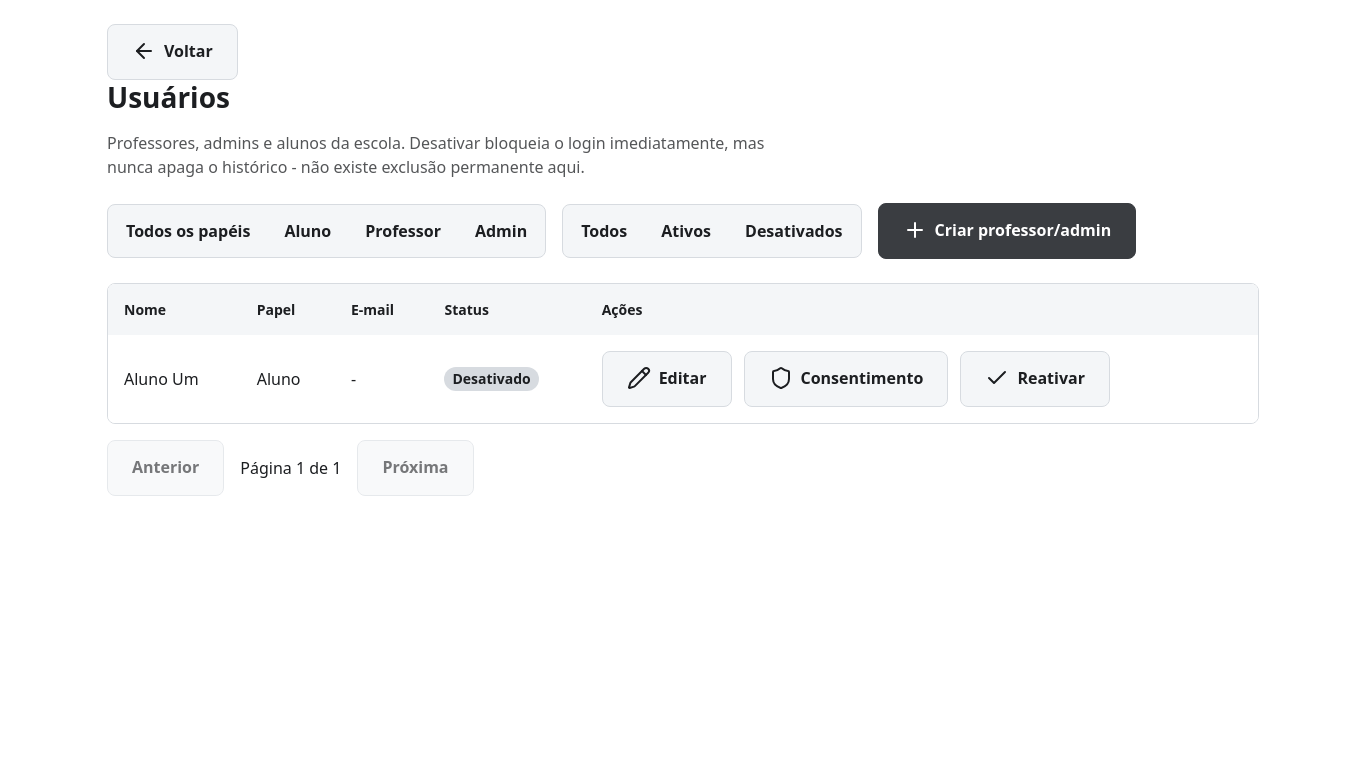
it: AdminUsers › AC4 - shows when and by whom the consent was recorded
Expected: the text "Aluno Um" is shown, [108,335,241,423]
Click the button "Consentimento": [846, 379] box [744,351,948,407]
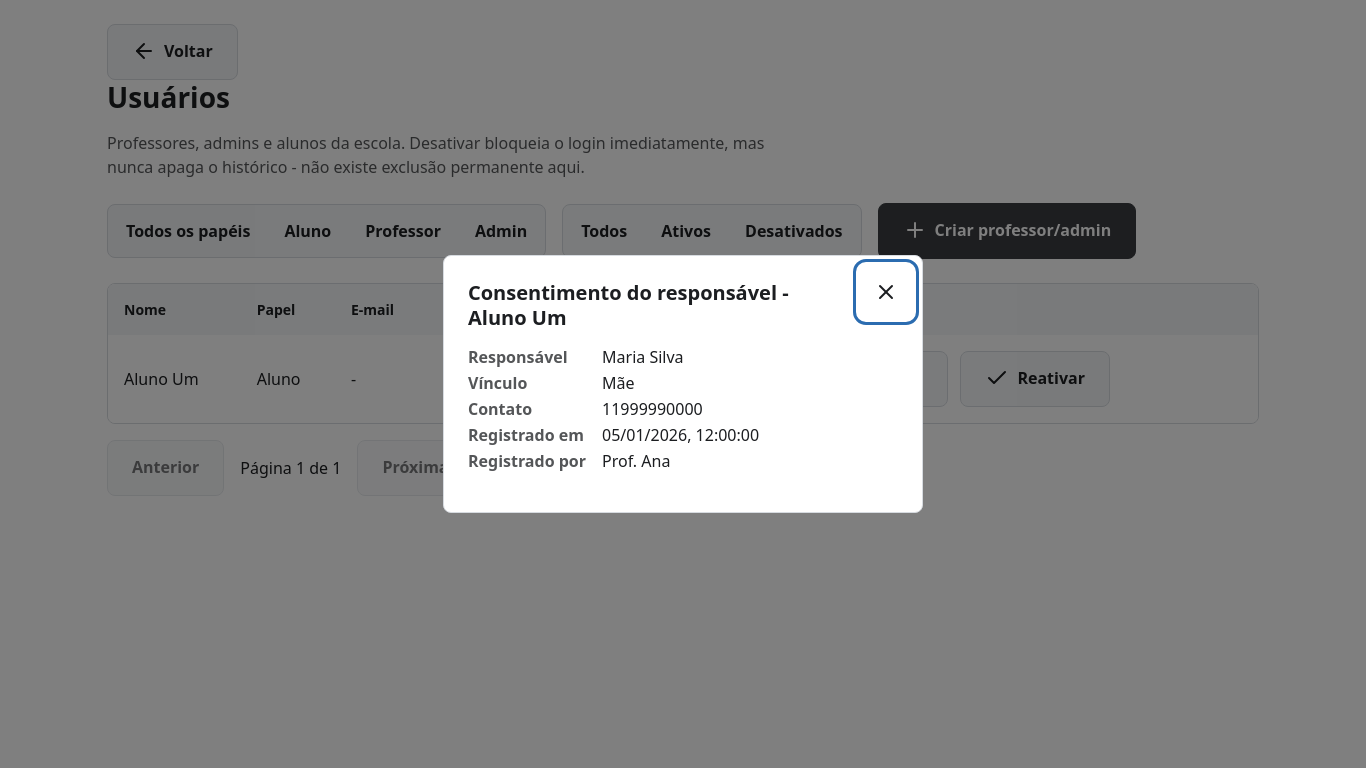
Result: the text "Maria Silva" is shown at [602,346,684,368]
Result: the text "Mãe" is shown at [602,372,634,394]
Result: the text "11999990000" is shown at [602,398,703,420]
